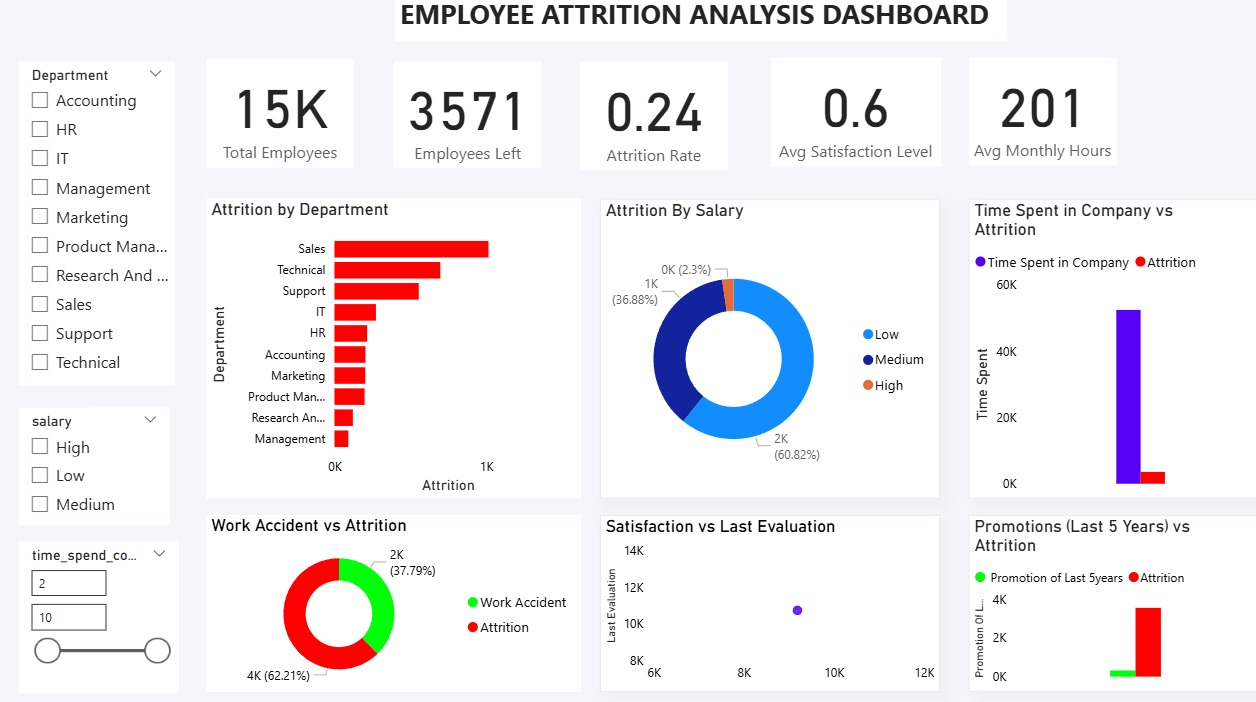

What the dashboard file says about the page in this screenshot:
{"tool":"powerbi","page":{"name":"Page 1","canvas":[1280,720],"ordinal":0},"visuals":[{"type":"card","fields":{"Values":["HR_capstone_dataset.Total Employees"]},"box":[205,68.8,147.5,108.8],"z":0},{"type":"card","fields":{"Values":["HR_capstone_dataset.Employees Left"]},"box":[391.2,71.2,147.5,106.2],"z":1000},{"type":"card","fields":{"Values":["HR_capstone_dataset.Attrition Rate"]},"box":[577.5,71.2,147.5,108.8],"z":2000},{"type":"card","fields":{"Values":["HR_capstone_dataset.Avg Satisfaction Level"]},"box":[767.1,67.1,168.6,108.6],"z":3000},{"type":"card","fields":{"Values":["HR_capstone_dataset.Avg Monthly Hours"]},"box":[963.8,67.5,147.5,107.5],"z":4000},{"type":"textbox","box":[392.5,0,608.8,51.2],"z":5000},{"type":"clusteredBarChart","title":"Attrition by Department","fields":{"Category":["HR_capstone_dataset.Department"],"Y":["HR_capstone_dataset.Employees Left"]},"box":[205,207.5,372.5,298.8],"z":6000},{"type":"slicer","fields":{"Values":["HR_capstone_dataset.Department"]},"box":[18.8,71.2,155,322.5],"z":7000},{"type":"slicer","fields":{"Values":["HR_capstone_dataset.salary"]},"box":[18.8,415,150,117.5],"z":8000},{"type":"slicer","fields":{"Values":["HR_capstone_dataset.time_spend_company"]},"box":[18.8,548.8,158.8,150],"z":9000},{"type":"donutChart","title":"Attrition By Salary","fields":{"Category":["HR_capstone_dataset.salary"],"Y":["Sum(HR_capstone_dataset.Attrition)"]},"box":[597.5,207.5,338.8,298.8],"z":10000},{"type":"lineClusteredColumnComboChart","title":"Time Spent in Company vs Attrition","fields":{"Y":["Sum(HR_capstone_dataset.time_spend_company)","Sum(HR_capstone_dataset.Attrition)"]},"box":[963.8,207.5,293.8,298.8],"z":11000},{"type":"scatterChart","title":"Satisfaction vs Last Evaluation","fields":{"X":["Sum(HR_capstone_dataset.satisfaction_level)"],"Y":["Sum(HR_capstone_dataset.last_evaluation)"]},"box":[597.5,522.5,338.8,176.2],"z":12000},{"type":"clusteredColumnChart","title":"Promotions (Last 5 Years) vs Attrition","fields":{"Y":["Sum(HR_capstone_dataset.promotion_last_5years)","Sum(HR_capstone_dataset.Attrition)"]},"box":[963.8,522.5,293.8,176.2],"z":13000},{"type":"donutChart","title":"Work Accident vs Attrition","fields":{"Y":["Sum(HR_capstone_dataset.Work_accident)","Sum(HR_capstone_dataset.Attrition)"]},"box":[205,522.5,372.5,176.2],"z":14000}]}

Visuals, with their boxes in screenshot pixels (x1, y1, x2, y2), scaled from the page's 1280x720 canvas onto the 1256x702 screenshot:
card - HR_capstone_dataset.Total Employees: 201/67/346/173
card - HR_capstone_dataset.Employees Left: 384/69/529/173
card - HR_capstone_dataset.Attrition Rate: 567/69/711/176
card - HR_capstone_dataset.Avg Satisfaction Level: 753/65/918/171
card - HR_capstone_dataset.Avg Monthly Hours: 946/66/1090/171
textbox: 385/0/983/50
"Attrition by Department" clusteredBarChart: 201/202/567/494
slicer - HR_capstone_dataset.Department: 18/69/171/384
slicer - HR_capstone_dataset.salary: 18/405/166/519
slicer - HR_capstone_dataset.time_spend_company: 18/535/174/681
"Attrition By Salary" donutChart: 586/202/919/494
"Time Spent in Company vs Attrition" lineClusteredColumnComboChart: 946/202/1234/494
"Satisfaction vs Last Evaluation" scatterChart: 586/509/919/681
"Promotions (Last 5 Years) vs Attrition" clusteredColumnChart: 946/509/1234/681
"Work Accident vs Attrition" donutChart: 201/509/567/681
